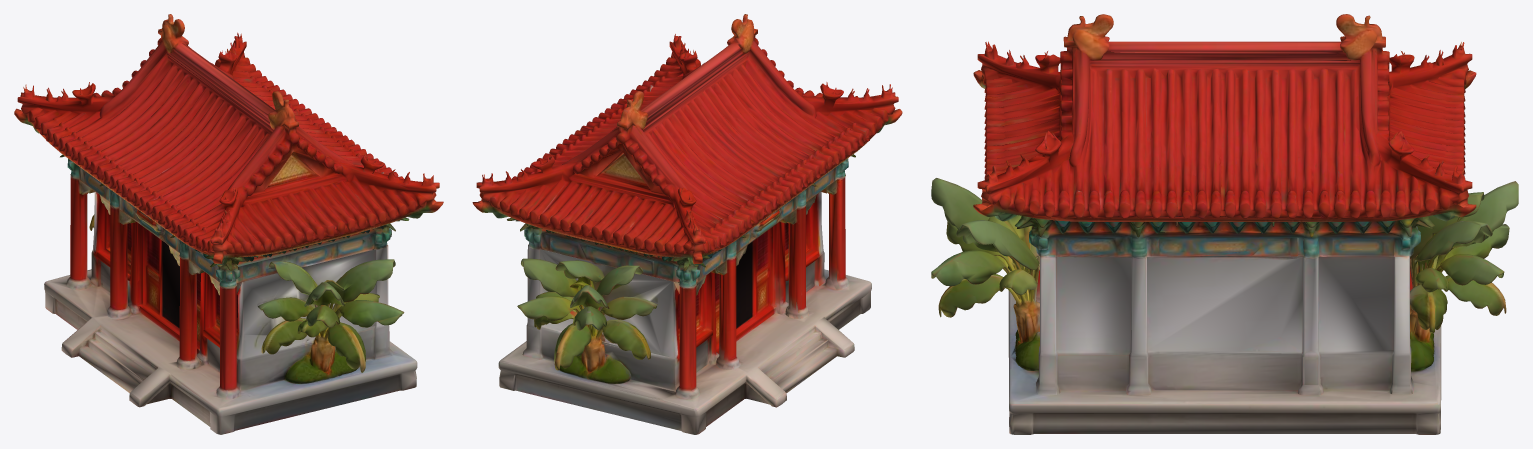
The model's file is yihong.glb.
The picture shows the model from 3 angles, left to right: view 1: azimuth 30°, elevation 25°; view 2: azimuth 150°, elevation 25°; view 3: azimuth 270°, elevation 25°; orthographic projection. The views are drawn at different scales.
Visible parts, largest first — view 1: material; view 2: material; view 3: material.
Boxes of the visible parts, x1=… form: material: x1=14, y1=14, x2=443, y2=434; material: x1=472, y1=14, x2=902, y2=434; material: x1=931, y1=14, x2=1518, y2=434.
Size of the model in its own units: 0.6294 by 0.7197 by 1.07.
Materials: 1 (1 with a texture image).
